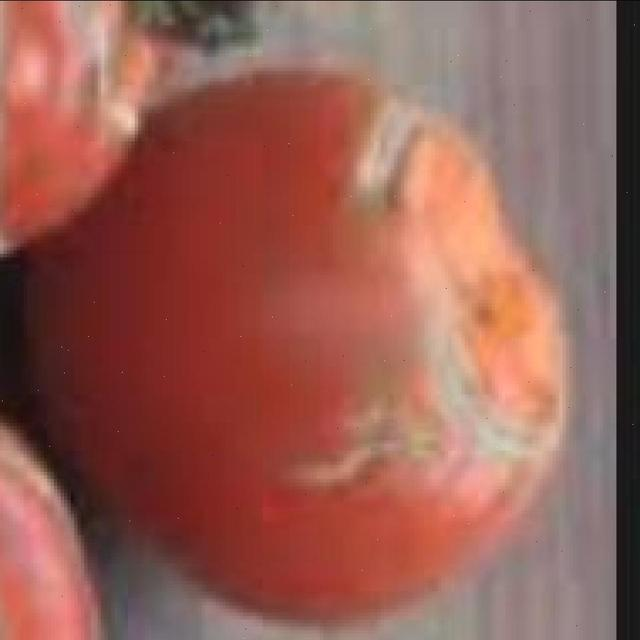Cracking Fruit: (92, 70, 326, 296)
